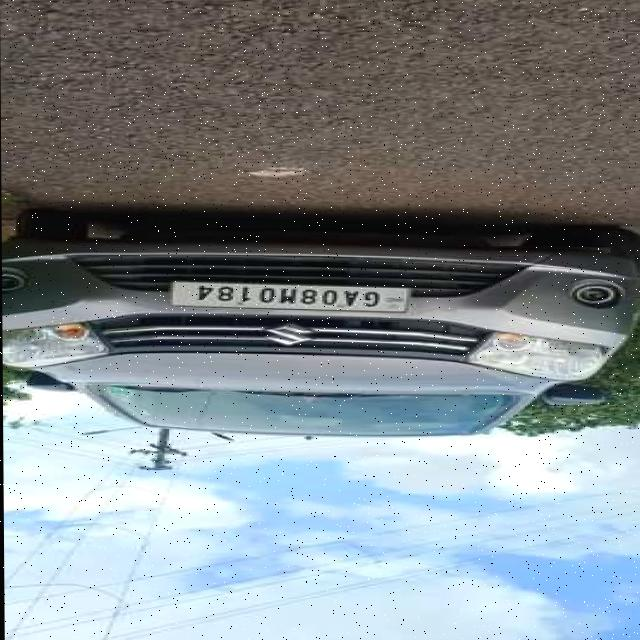plate: (168, 279, 411, 314)
